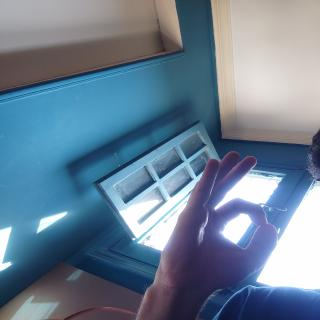Space: (164, 144, 287, 294)
